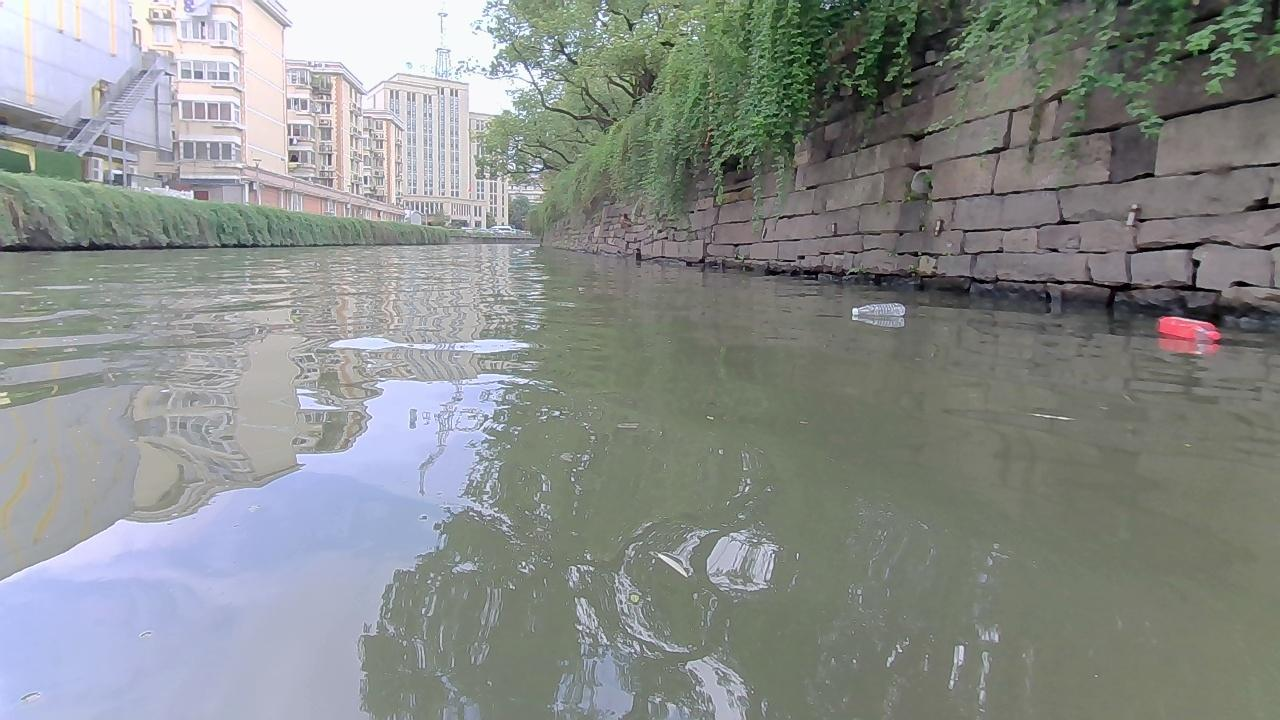bottle: (1156, 315, 1220, 340), (849, 301, 905, 316)
